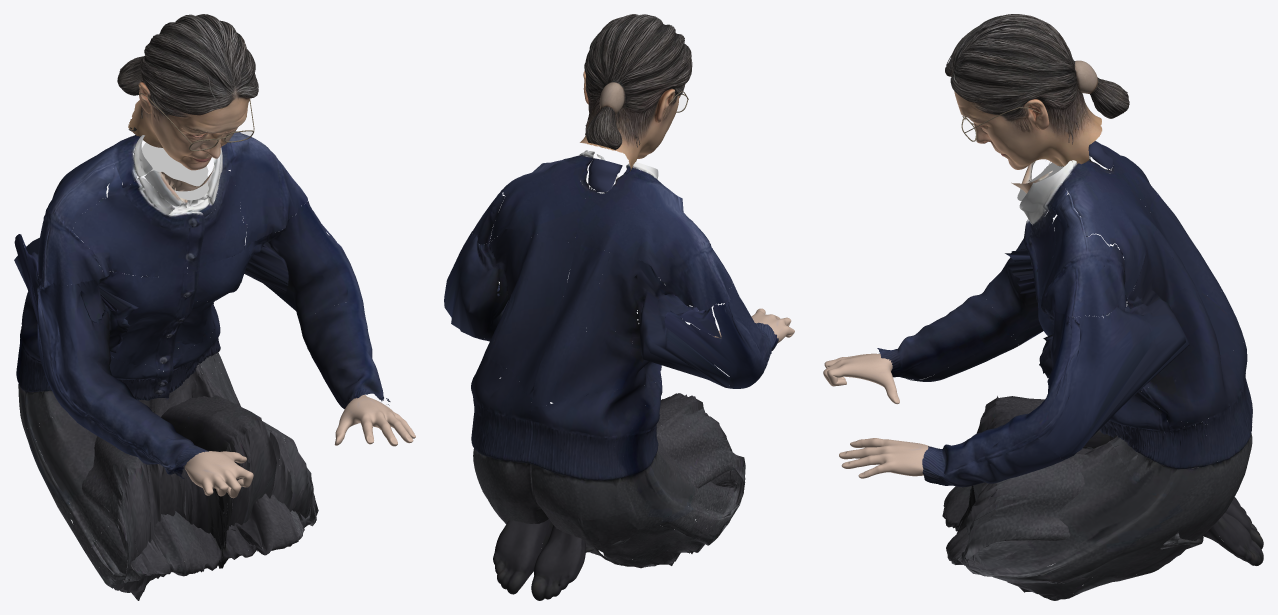
File: kikite_pinch.glb
3 renders of one model, left to right at view 1: azimuth 30°, elevation 25°; view 2: azimuth 150°, elevation 25°; view 3: azimuth 270°, elevation 25°, orthographic. The views are drawn at different scales.
Visible parts, largest first — view 1: kikite_body, kikite_head, kikite_hands; view 2: kikite_body, kikite_head, kikite_hands; view 3: kikite_body, kikite_head, kikite_hands.
Boxes of the visible parts, x1,y1,x2,y2 form: kikite_body: (14,127,390,600); kikite_head: (117,14,258,170); kikite_hands: (185,394,415,498); kikite_body: (444,150,778,600); kikite_head: (580,14,692,170); kikite_hands: (713,308,794,343); kikite_body: (877,141,1263,600); kikite_head: (945,14,1129,169); kikite_hands: (823,353,929,478).
Size of the model in its own units: 0.5752 by 1 by 0.6963.
Materials: 8 (3 with a texture image).
